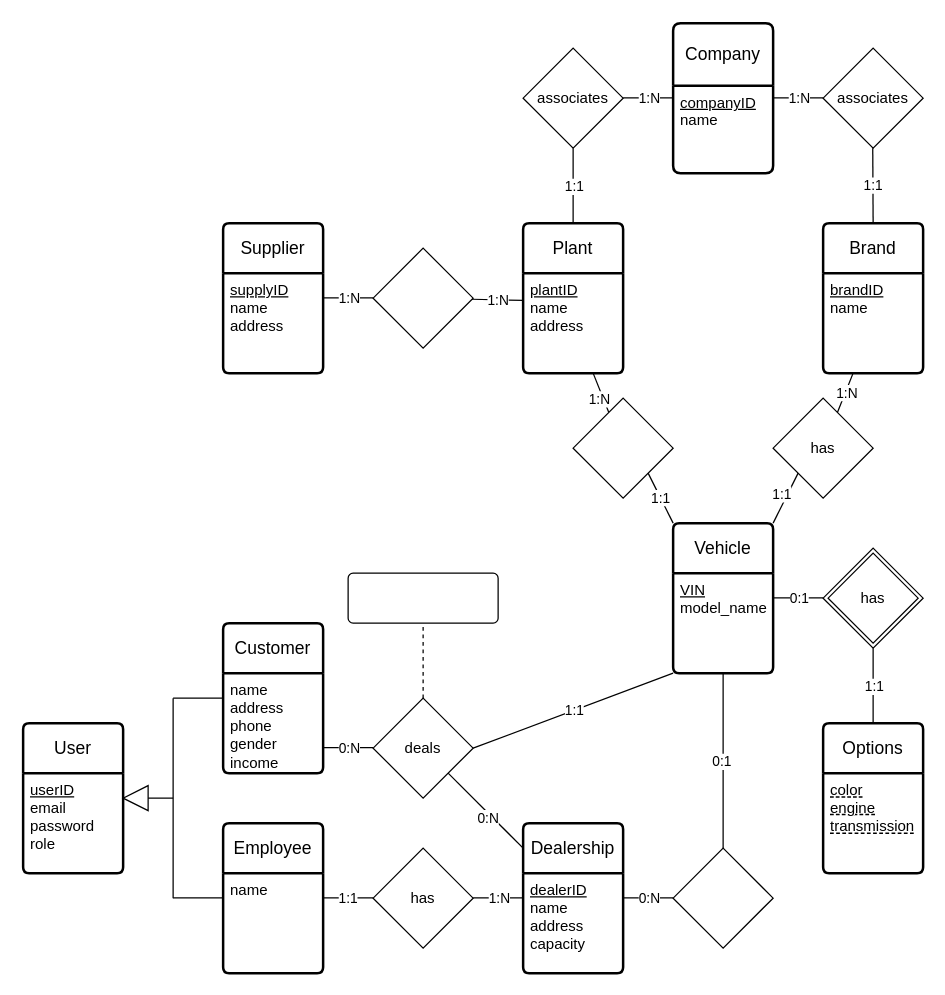
This 945x995 diagram has some shape labels left out. The shapes that lost their labels are listed below. From the top down, each one's centre as x and y in pixels, then its label:
At (422,297): "provides".
At (622,447): "makes".
At (422,597): "date_of_deal".
At (722,897): "stocks".
